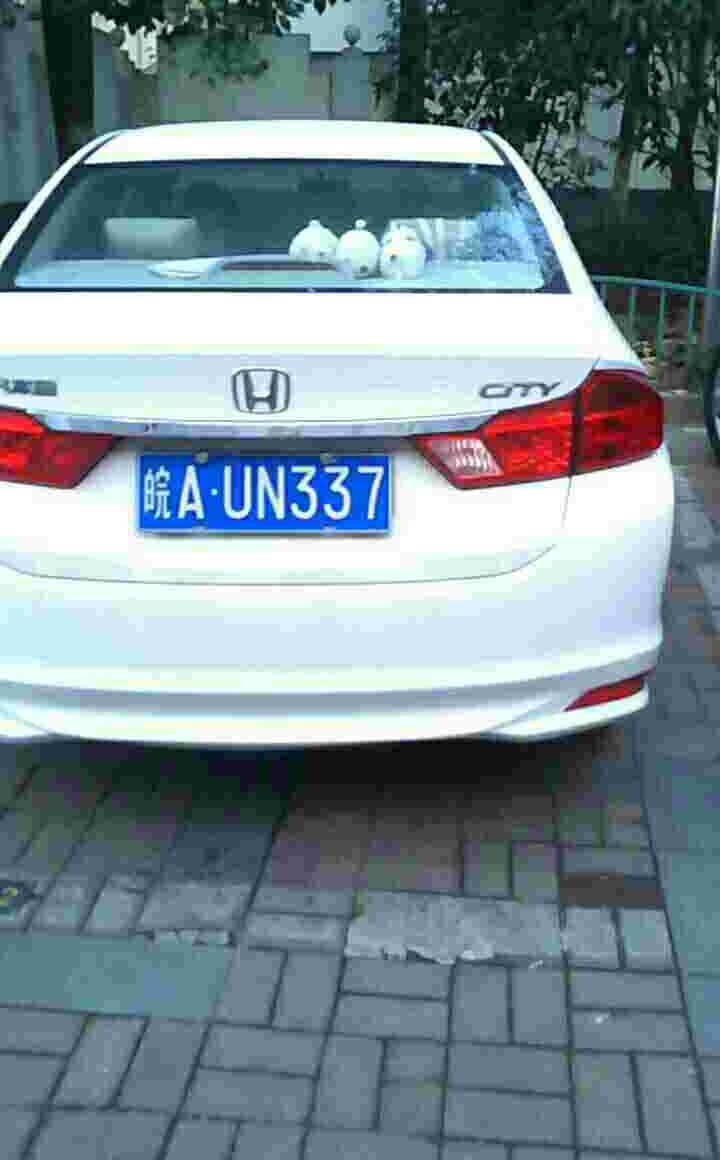license_plate: (139, 450, 388, 538)
